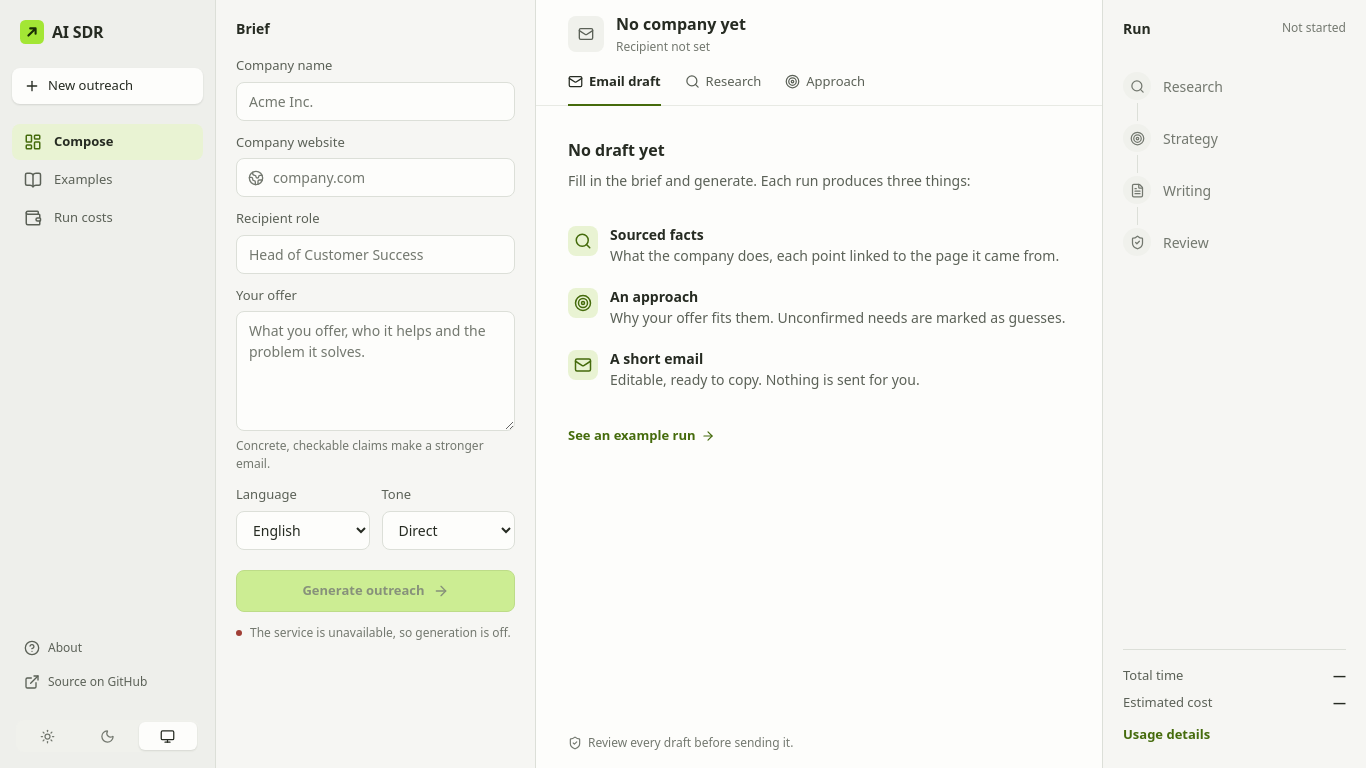
workspace › moves costs into a dismissible dialog and treats missing usage as unknown
The width and height of the screenshot is (1366, 768).
Click the button "Run costs": click(108, 218) [12,200,203,236]
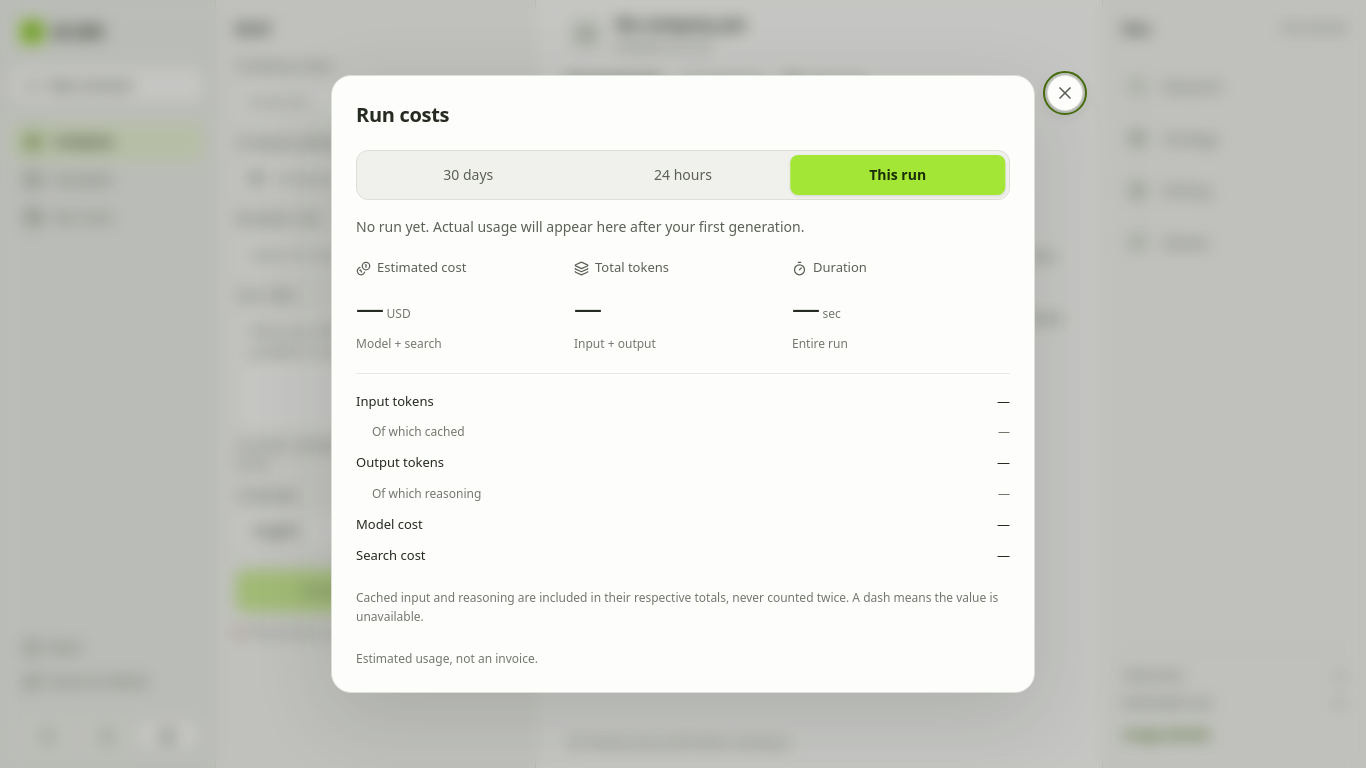
expect the dialog "Run costs" does not show "$0.0000": met, box [283,27,1083,741]
expect the text "Total tokens" is shown: met, box [574,258,669,276]
expect the dialog "Run costs" shows "No run yet": met, box [356,217,804,236]
Click the button named "Close dialog": click(1065, 93) [1047,75,1083,111]
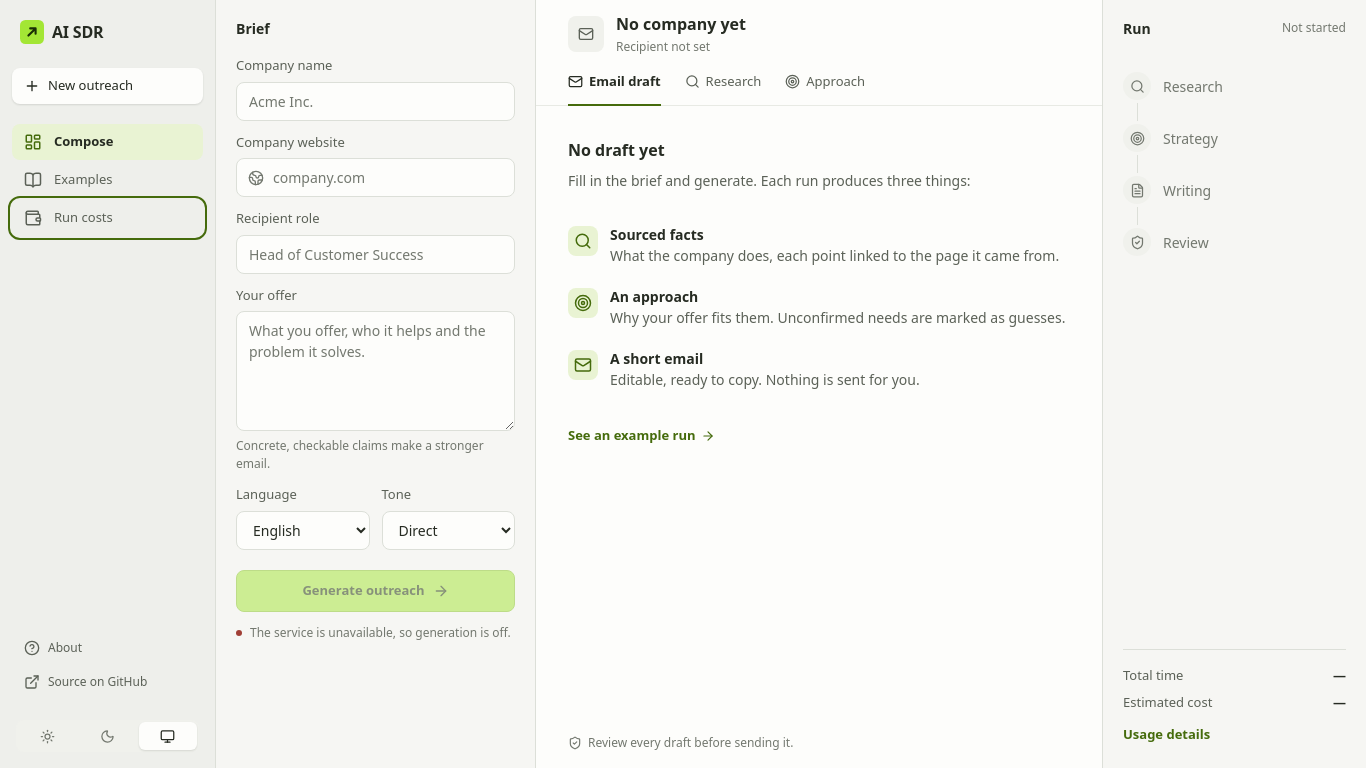
expect the dialog is gone: met
